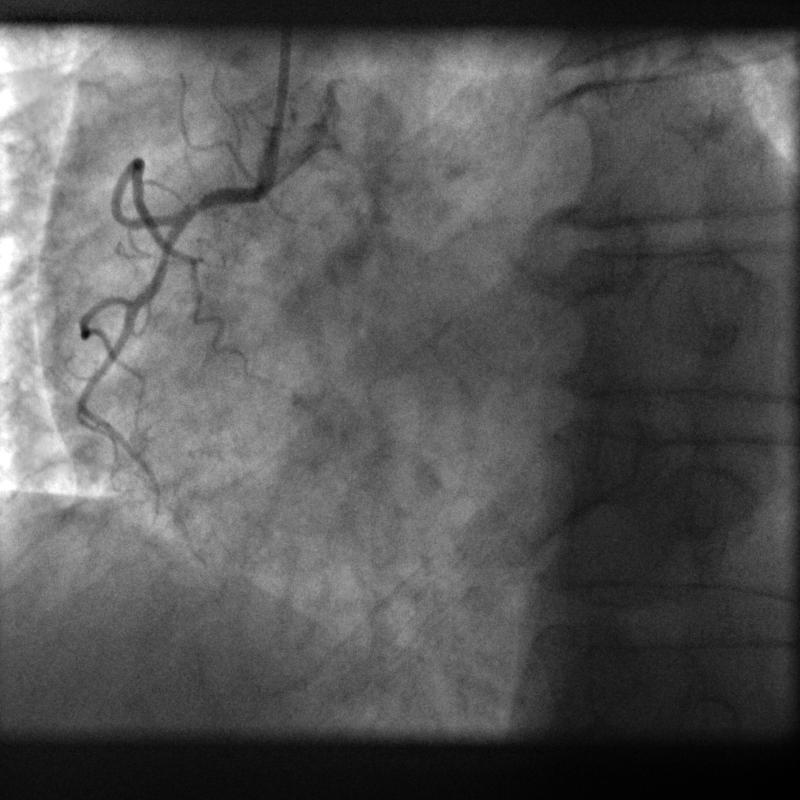Stenosis: (178, 186, 222, 232)
